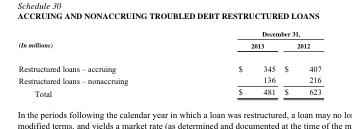table: (17, 28, 320, 97)
table column: (17, 28, 182, 97), (182, 28, 279, 97), (279, 28, 320, 97)
table column header: (17, 28, 320, 56)
table row: (17, 39, 320, 56), (17, 56, 320, 73), (17, 73, 320, 85), (17, 85, 320, 97), (17, 28, 320, 39)
table spanning cell: (17, 28, 182, 56), (182, 28, 320, 39)
